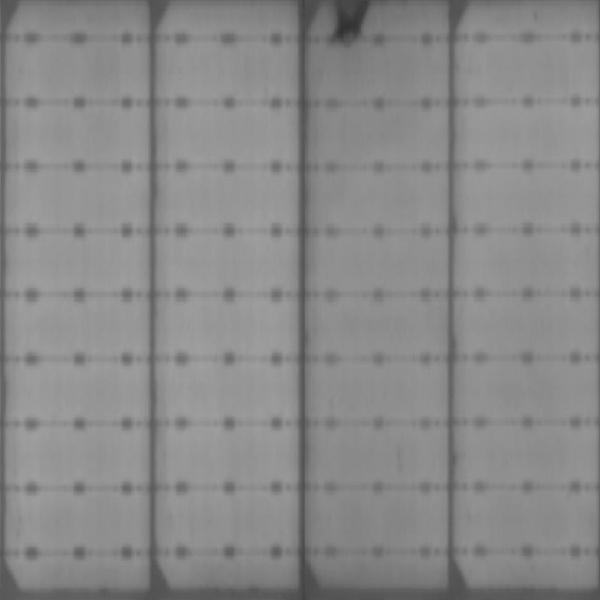broken: (319, 1, 375, 49)
